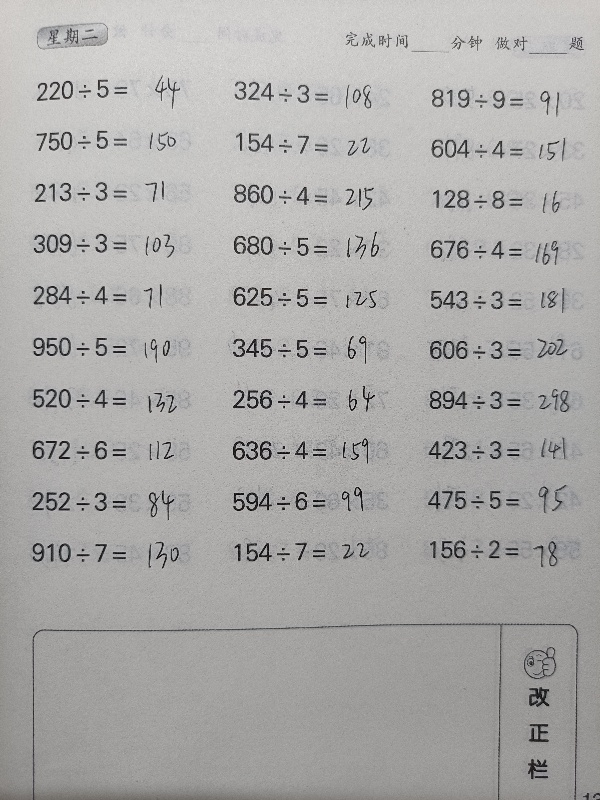equation: (422, 81, 591, 120), (422, 278, 585, 318), (24, 535, 204, 570), (24, 484, 204, 519), (224, 433, 404, 468), (225, 382, 405, 417), (25, 381, 205, 416), (225, 331, 405, 366), (224, 279, 404, 314), (26, 278, 206, 313), (224, 228, 404, 263), (25, 226, 205, 261), (224, 177, 404, 212), (26, 174, 206, 209), (226, 126, 406, 161), (225, 74, 405, 109), (28, 71, 208, 106), (421, 232, 600, 267), (227, 535, 407, 569), (224, 484, 404, 518), (419, 483, 599, 517), (420, 433, 600, 467), (24, 433, 204, 467), (25, 330, 205, 364), (28, 123, 208, 157), (421, 532, 600, 566), (421, 383, 600, 417), (421, 333, 600, 367), (423, 181, 588, 216), (423, 132, 581, 168)
